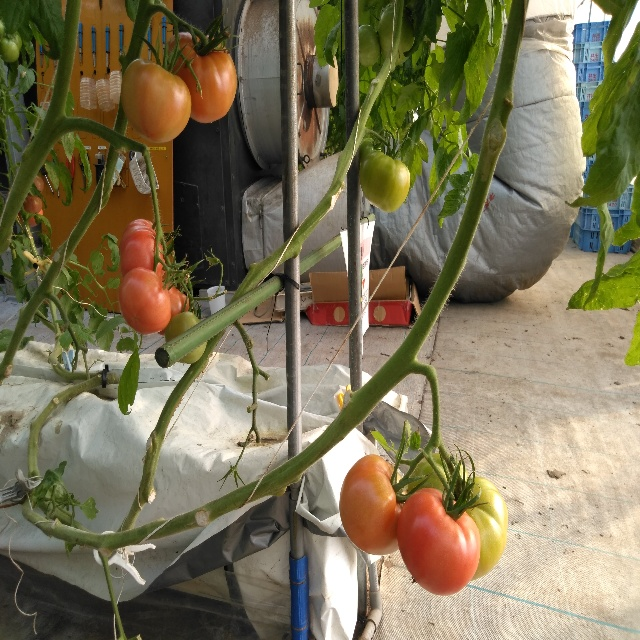b_fully_ripened: (396, 488, 481, 596), (119, 220, 167, 279)
b_green: (407, 452, 508, 582), (359, 151, 410, 213), (164, 311, 207, 364), (378, 4, 415, 65), (359, 24, 381, 67), (359, 138, 381, 165), (0, 37, 20, 63), (2, 31, 22, 51)
b_half_ripened: (339, 454, 408, 555), (165, 31, 237, 124), (121, 57, 192, 144), (118, 266, 172, 334), (157, 278, 194, 336)
